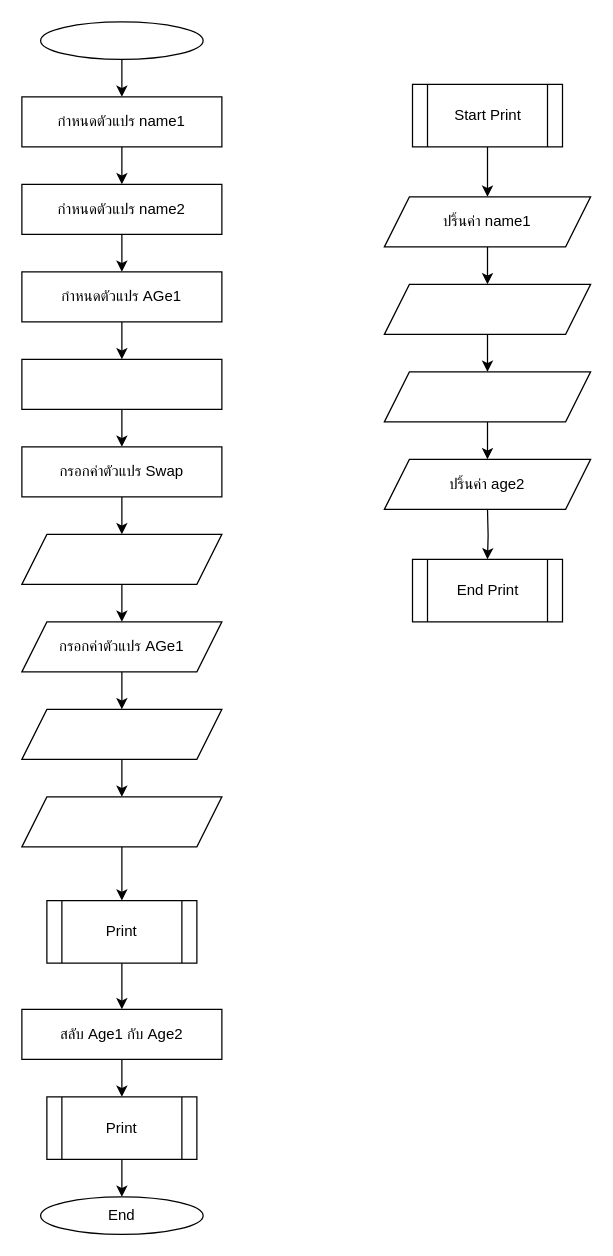
The diagram is 613 pixels wide and 1256 high, and some of its shapes have lost their labels. Each missing label, with the box of its shape:
Start: (39, 21, 203, 59)
กรอกค่าตัวแปร AGe2: (21, 796, 222, 847)
กรอกค่าตัวแปร num 1: (21, 533, 222, 584)
กรอกค่าตัวแปร num 2: (21, 708, 222, 759)
กำหนดตัวแปร AGe2: (21, 358, 222, 409)
ปริ้นค่า age1: (383, 283, 591, 334)
ปริ้นค่า name2: (383, 371, 591, 422)
